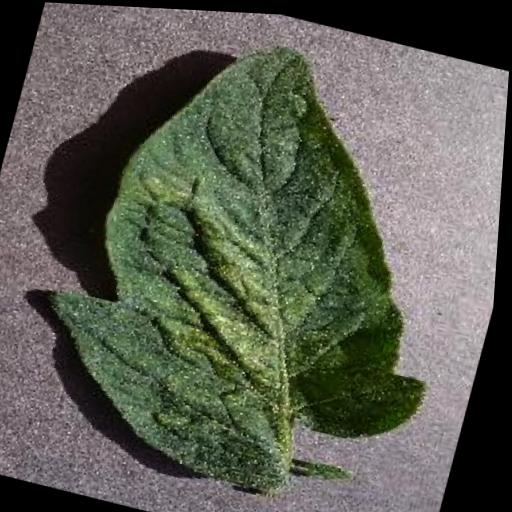Spider Mites: (15, 2, 507, 512)
